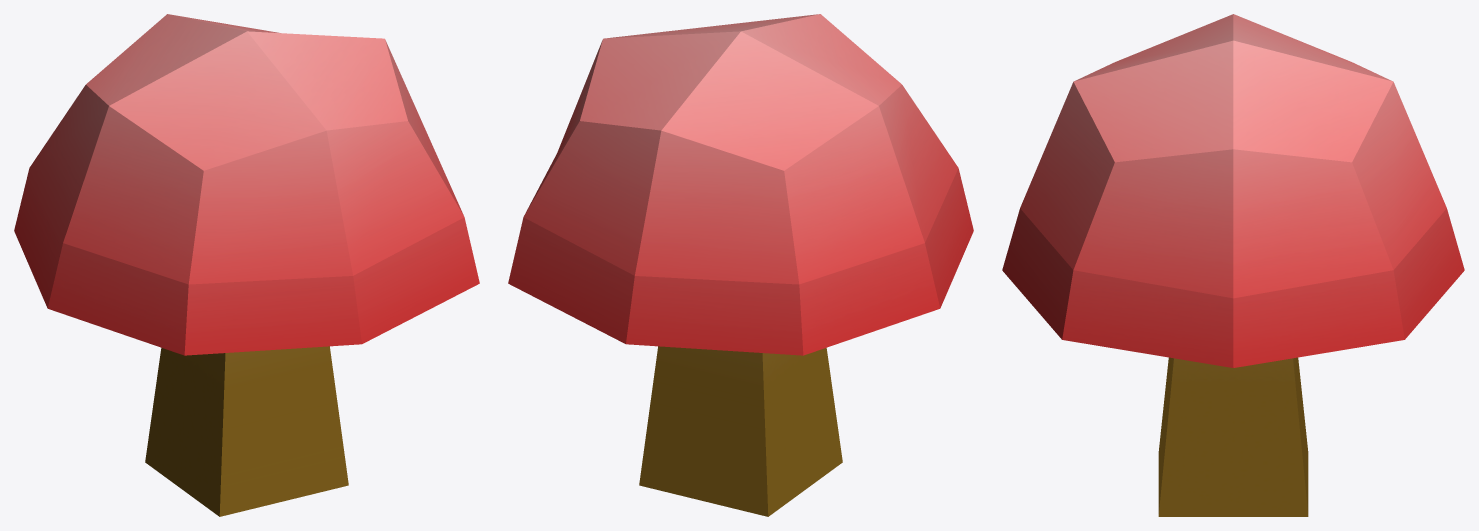
File: mushroom__1_.fbx
The picture shows the model from 3 angles, left to right: view 1: azimuth 30°, elevation 25°; view 2: azimuth 150°, elevation 25°; view 3: azimuth 270°, elevation 25°; orthographic projection.
Visible parts, largest first — view 1: mushroom__1_; view 2: mushroom__1_; view 3: mushroom__1_.
Part boxes in pixels (box(x1,y1,x2,y2)): mushroom__1_: box(14, 14, 479, 516); mushroom__1_: box(508, 14, 973, 516); mushroom__1_: box(1002, 14, 1464, 516).
Bounding box in the file's own units: 709 × 752 × 709.
